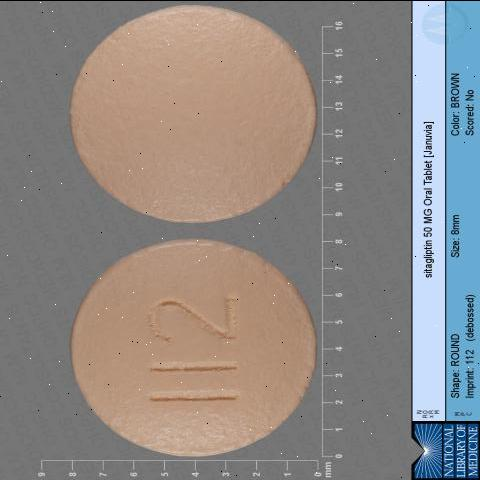Pill: (59, 226, 335, 458), (71, 0, 338, 229)
